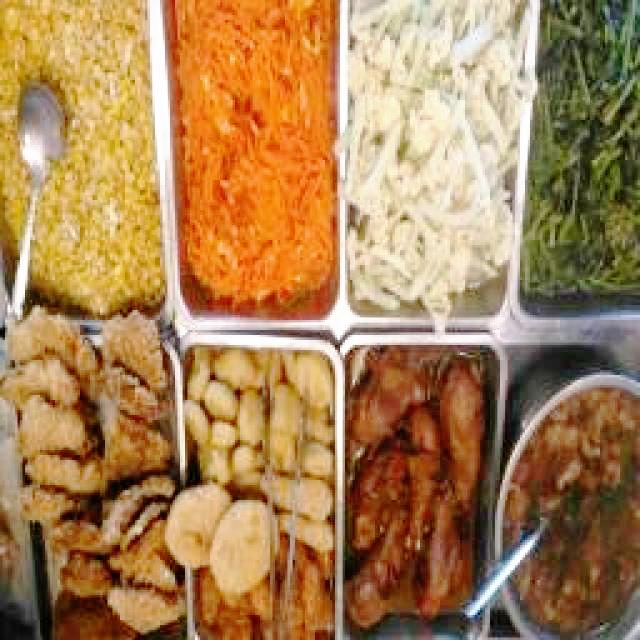carrot_eggs: (174, 5, 332, 305)
chicken_nuggets: (169, 344, 331, 599), (164, 487, 242, 569), (213, 497, 274, 596), (291, 353, 334, 408), (231, 388, 265, 443), (212, 352, 256, 389), (272, 386, 300, 440), (203, 380, 237, 421), (301, 442, 335, 478), (183, 398, 211, 441)
chinese_cabbage: (349, 5, 519, 312)
curry: (558, 424, 634, 605)
fried_chicken: (7, 309, 188, 640), (6, 310, 100, 373), (101, 312, 170, 388), (101, 412, 173, 484), (14, 397, 93, 458), (98, 364, 167, 425), (3, 358, 84, 407), (121, 519, 177, 589), (111, 588, 182, 640), (27, 449, 102, 497), (61, 604, 135, 640), (58, 554, 114, 598), (52, 518, 110, 558), (22, 491, 81, 524)
water_spinach: (527, 7, 640, 299)
